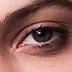eye: (32, 29, 52, 41)
